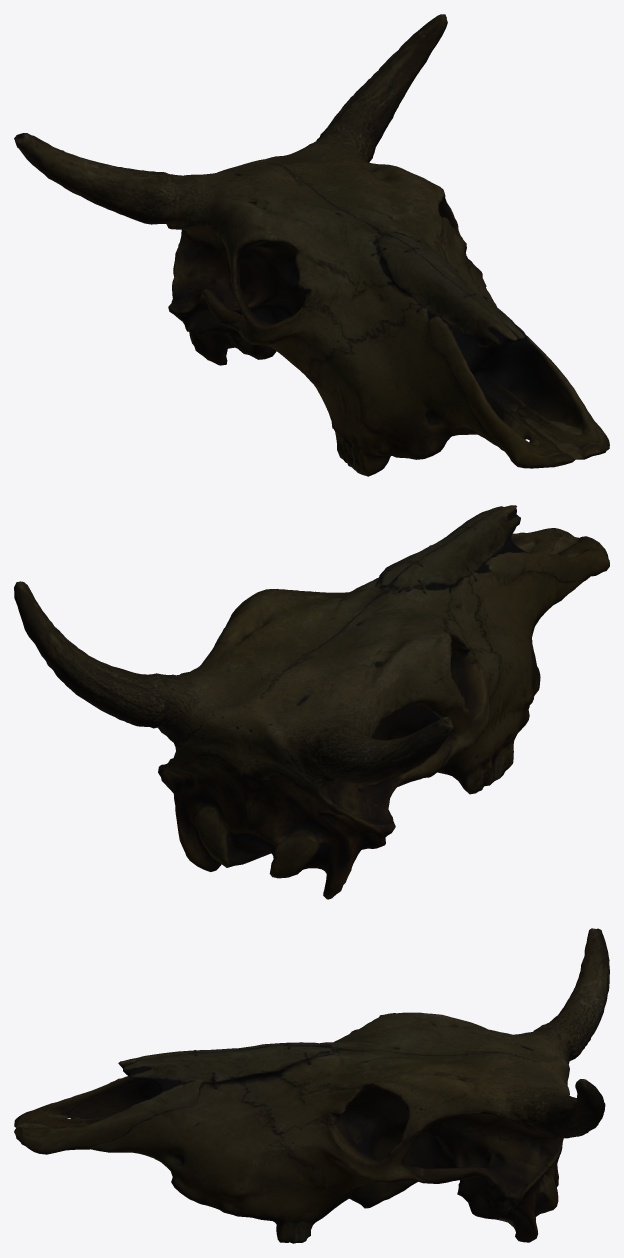
Rendered from model_obj-gorsk.glb.
The picture shows the model from 3 angles, top to bottom: view 1: azimuth 30°, elevation 25°; view 2: azimuth 150°, elevation 25°; view 3: azimuth 270°, elevation 25°; orthographic projection. The views are drawn at different scales.
Parts seen in each view (by area): view 1: Node1; view 2: Node1; view 3: Node1.
Boxes of the visible parts, bbox=[...] form: Node1: bbox=[14, 14, 609, 476]; Node1: bbox=[14, 505, 609, 899]; Node1: bbox=[14, 928, 609, 1243].
Size of the model in its own units: 0.3517 by 0.2087 by 0.5024.
Materials: 1 (1 with a texture image).
